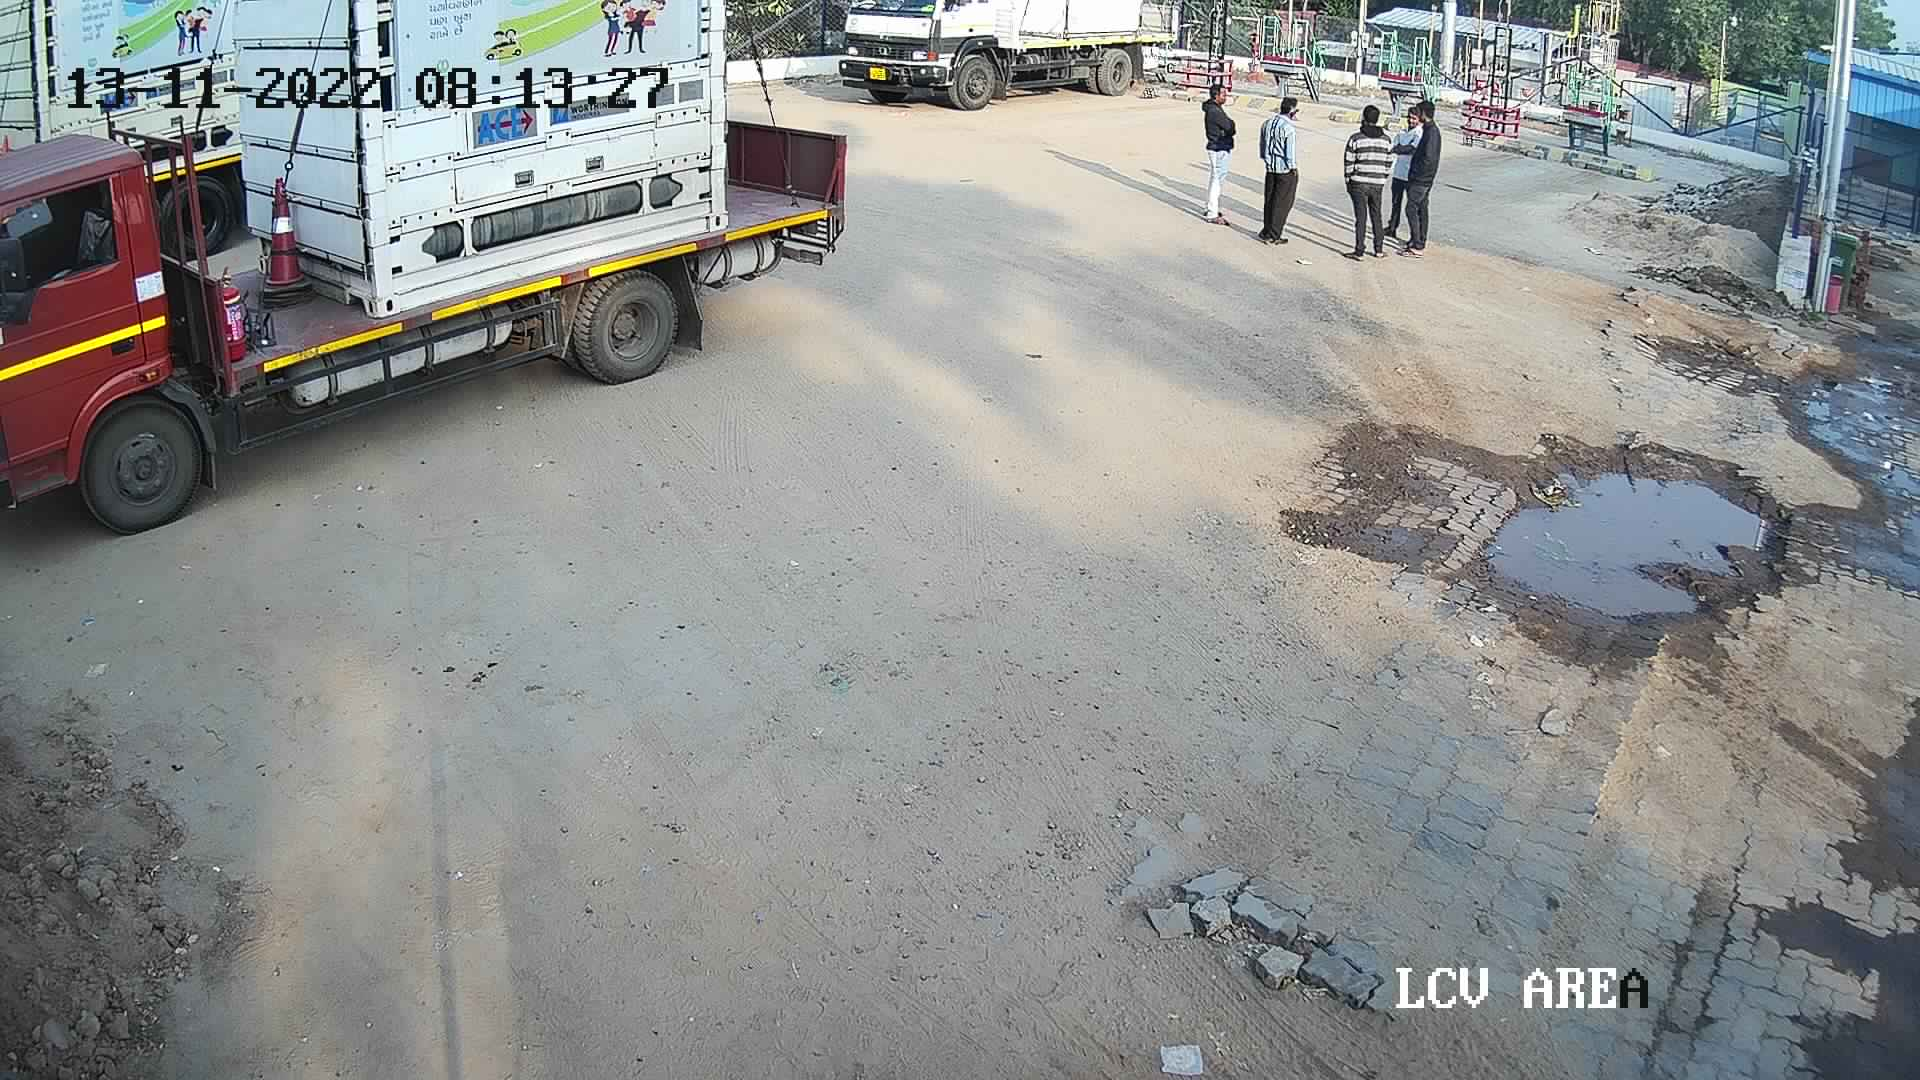HMV: (1, 0, 860, 542), (1, 3, 240, 278), (823, 0, 1185, 113)
